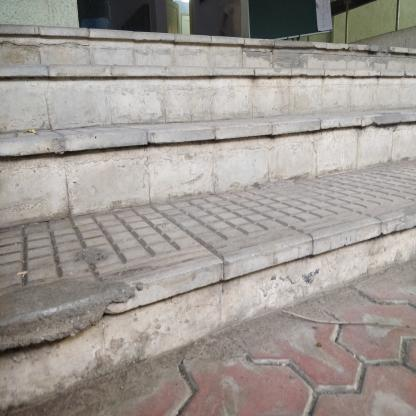stairs: (1, 65, 416, 364)
